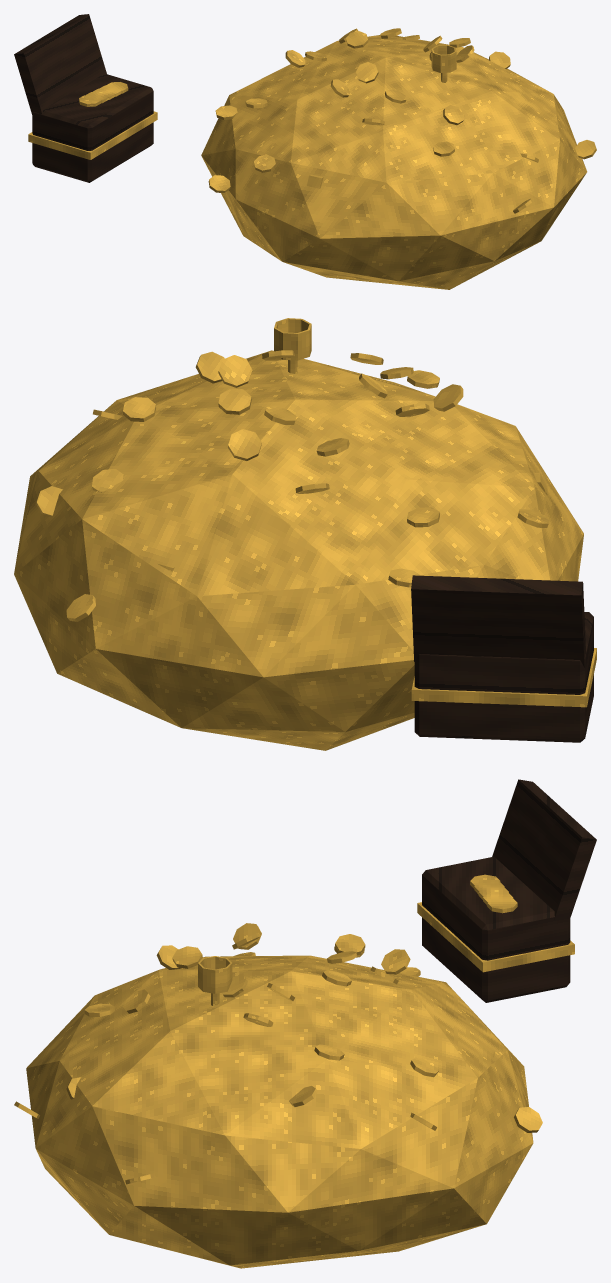
File: gold_pile.glb
3 renders of one model, top to bottom at view 1: azimuth 30°, elevation 25°; view 2: azimuth 150°, elevation 25°; view 3: azimuth 270°, elevation 25°, orthographic. The views are drawn at different scales.
Visible parts, largest first — view 1: gold_pile; view 2: gold_pile; view 3: gold_pile.
Part boxes in pixels (left/top/right/bottom): gold_pile: left=14, top=14, right=596, bottom=289; gold_pile: left=14, top=318, right=596, bottom=750; gold_pile: left=14, top=779, right=596, bottom=1268.
Size of what is drawn, in the model's own units: 3.26 by 1.56 by 2.7.
Materials: 2 (2 with a texture image).
